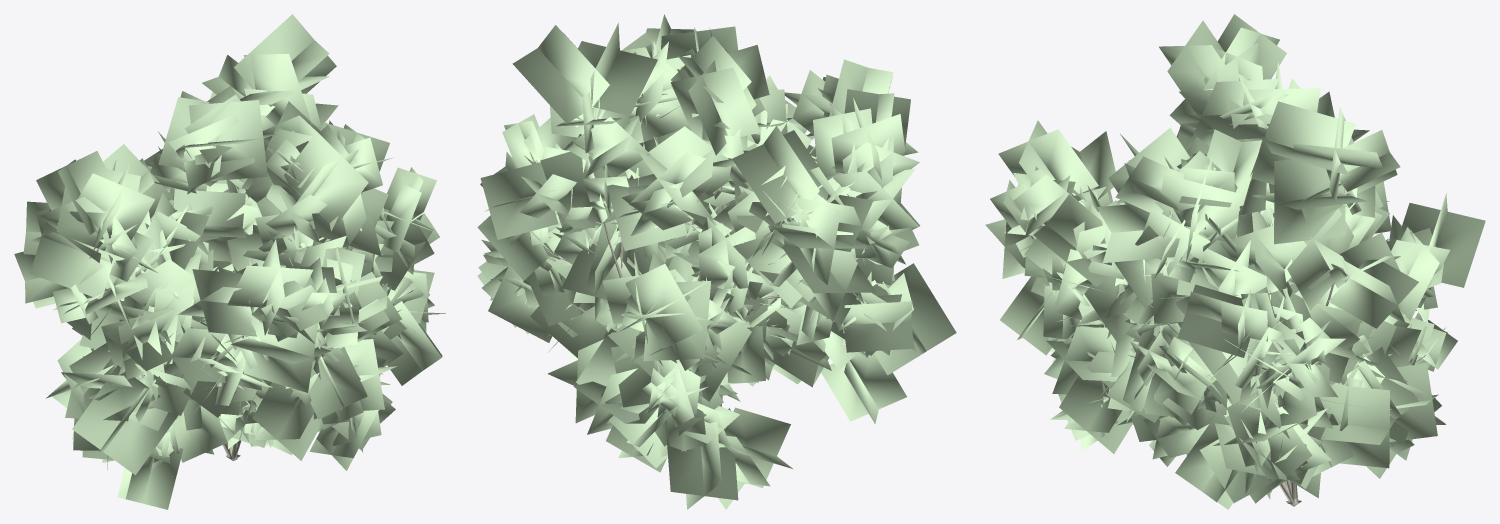
File: bush_1_v1_lod1.glb
3 renders of one model, left to right at view 1: azimuth 30°, elevation 25°; view 2: azimuth 150°, elevation 25°; view 3: azimuth 270°, elevation 25°, orthographic. The views are drawn at different scales.
Parts seen in each view (by area): view 1: Leaves; view 2: Leaves; view 3: Leaves.
Part boxes in pixels (x1,y1,x2,y2): Leaves: (14,14,445,509); Leaves: (477,14,956,509); Leaves: (985,14,1485,509).
Bounding box in the file's own units: 31.35 × 29.91 × 30.4.
